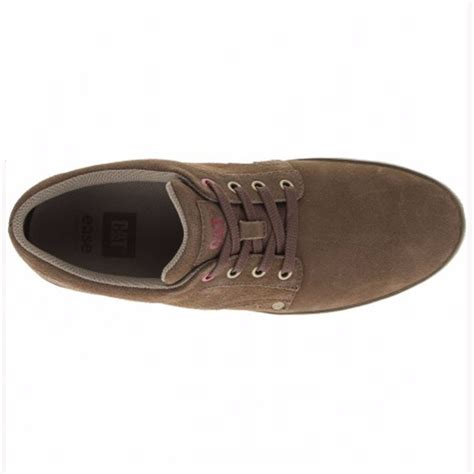gamuza: (9, 158, 465, 315)
